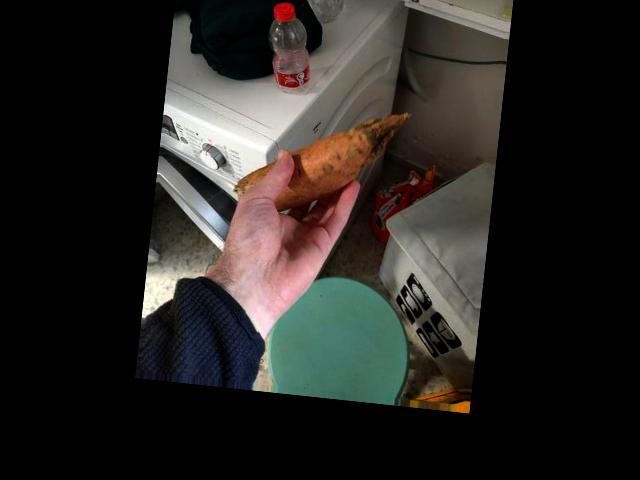sweet_potato: (253, 124, 364, 209)
